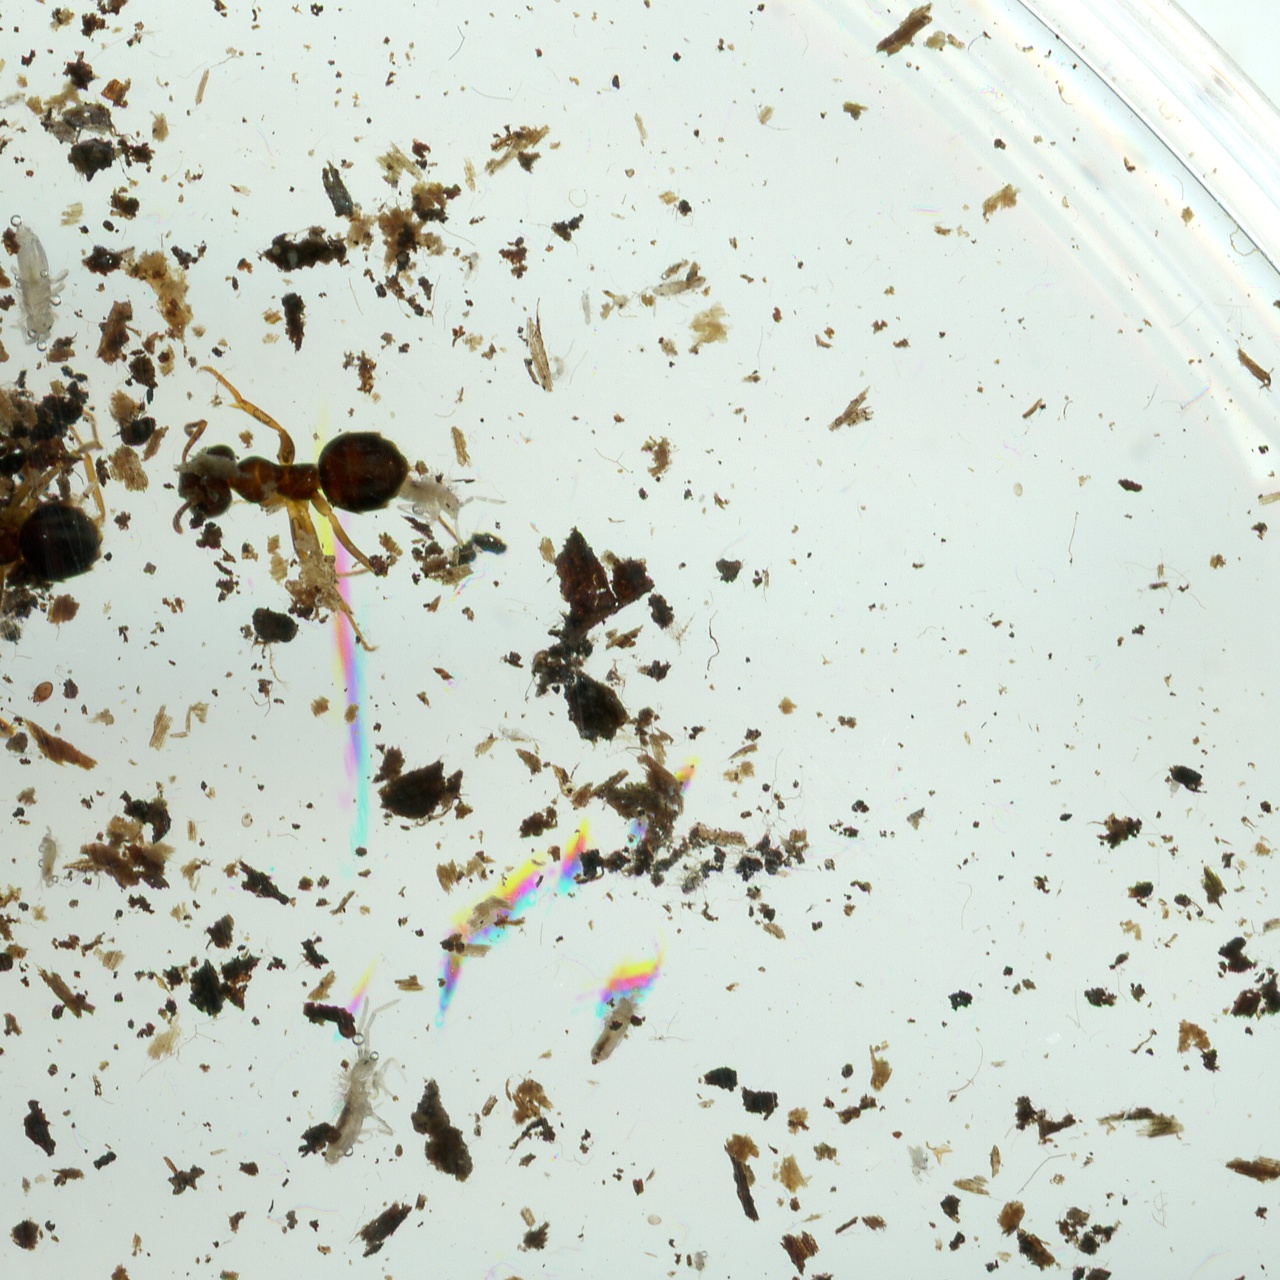arthropod: (142, 321, 438, 675), (0, 390, 114, 642), (307, 982, 429, 1184), (8, 222, 77, 349), (0, 0, 147, 59), (403, 456, 504, 540), (573, 976, 654, 1078), (0, 645, 25, 765), (646, 268, 709, 306), (35, 821, 67, 891), (491, 719, 550, 754), (900, 1139, 940, 1183), (458, 247, 485, 295), (26, 680, 59, 709), (547, 342, 570, 383), (0, 88, 29, 118), (910, 1142, 927, 1185), (689, 1248, 712, 1280), (579, 290, 597, 327)
